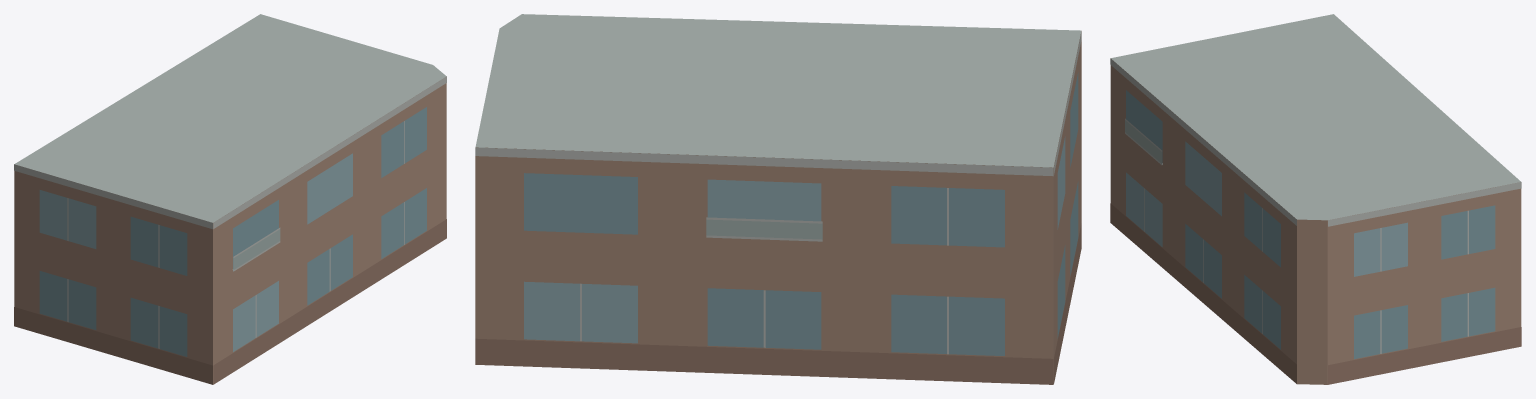
File: survey-upis-32708326.glb
3 views of the same model, side by side, from view 1: azimuth 30°, elevation 25°; view 2: azimuth 150°, elevation 25°; view 3: azimuth 270°, elevation 25° (orthographic). The views are drawn at different scales.
Parts seen in each view (by area): view 1: survey-upis-32708326.tmp; view 2: survey-upis-32708326.tmp; view 3: survey-upis-32708326.tmp.
Boxes of the visible parts, box(x1,y1,x2,y2) form: survey-upis-32708326.tmp: box(14, 14, 446, 384); survey-upis-32708326.tmp: box(475, 14, 1081, 384); survey-upis-32708326.tmp: box(1110, 14, 1521, 384).
Bounding box in the file's own units: 16.4 × 6.1 × 13.81.
